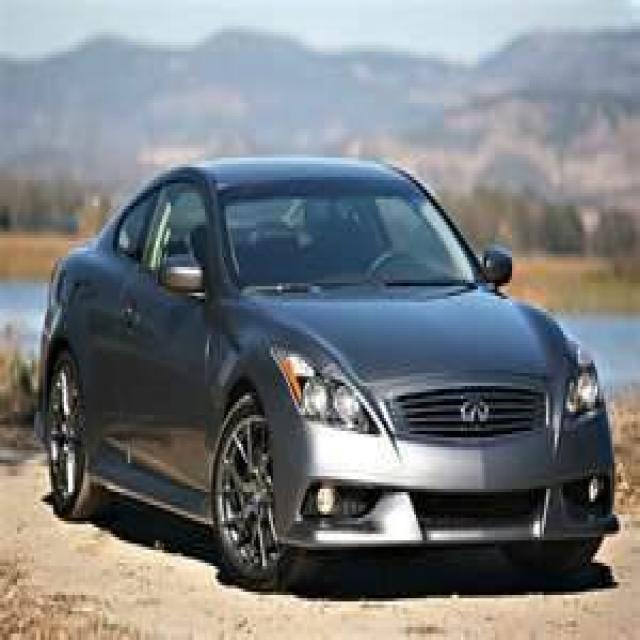car: (35, 155, 622, 591)
